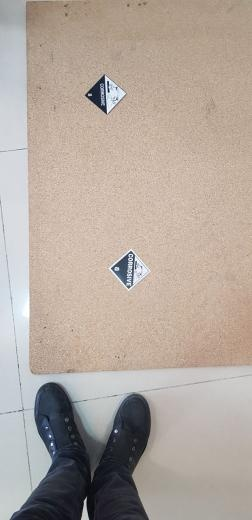Corrosive: (108, 248, 151, 291), (83, 73, 127, 115)
